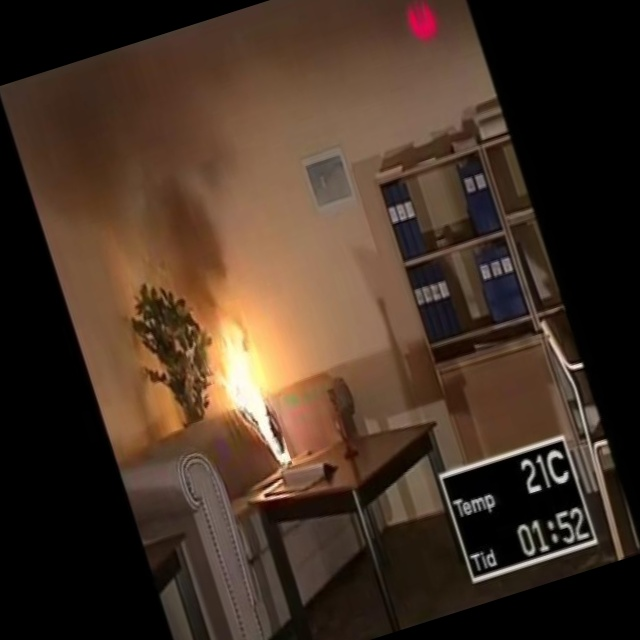fire: (202, 314, 310, 478)
